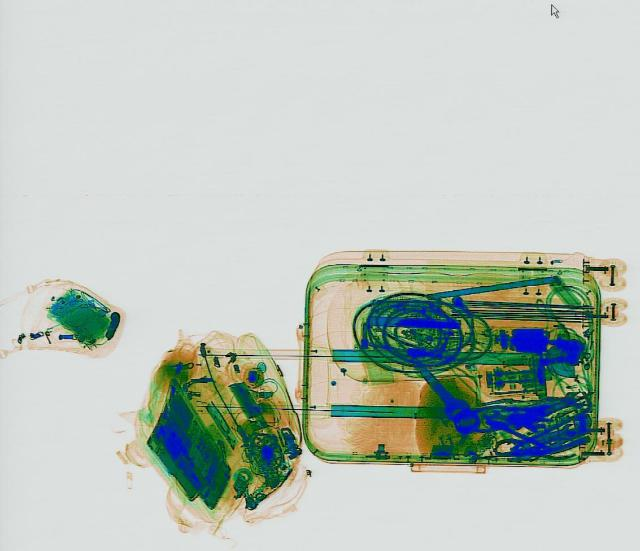Pliers: (466, 395, 550, 432), (512, 436, 574, 462)
Wrench: (514, 419, 578, 450)
